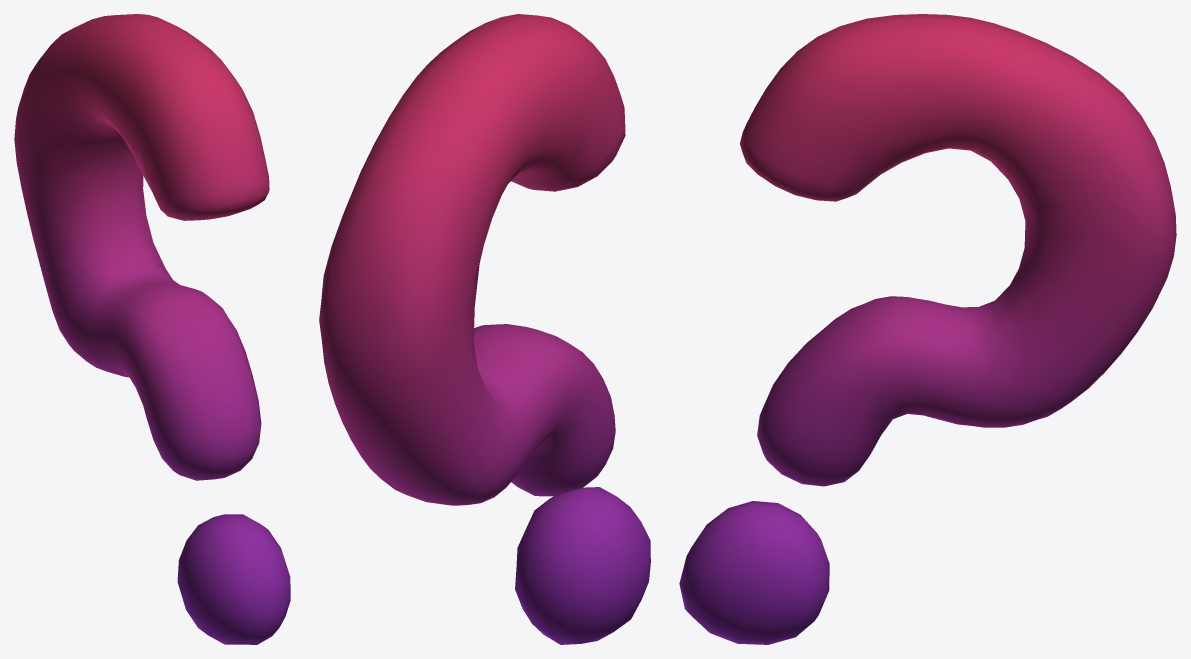
The model's file is QuestionMarkTripleThree.dae.
3 views of the same model, side by side, from view 1: azimuth 30°, elevation 25°; view 2: azimuth 150°, elevation 25°; view 3: azimuth 270°, elevation 25° (orthographic). The views are drawn at different scales.
Visible parts, largest first — view 1: Cube_004; view 2: Cube_004; view 3: Cube_004.
Boxes of the visible parts, box(x1,y1,x2,y2) form: Cube_004: box(14, 14, 290, 644); Cube_004: box(319, 14, 650, 644); Cube_004: box(679, 14, 1176, 644).
Size of the model in its own units: 0.3964 by 1.53 by 2.11.
1 material, 1 textured.
